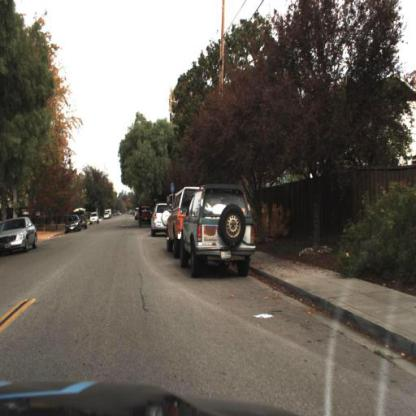car: (181, 182, 257, 279), (164, 186, 195, 260), (0, 212, 40, 256), (1, 218, 39, 256), (147, 201, 172, 241), (62, 208, 80, 236), (139, 201, 153, 223), (88, 210, 102, 227), (78, 204, 86, 232)
